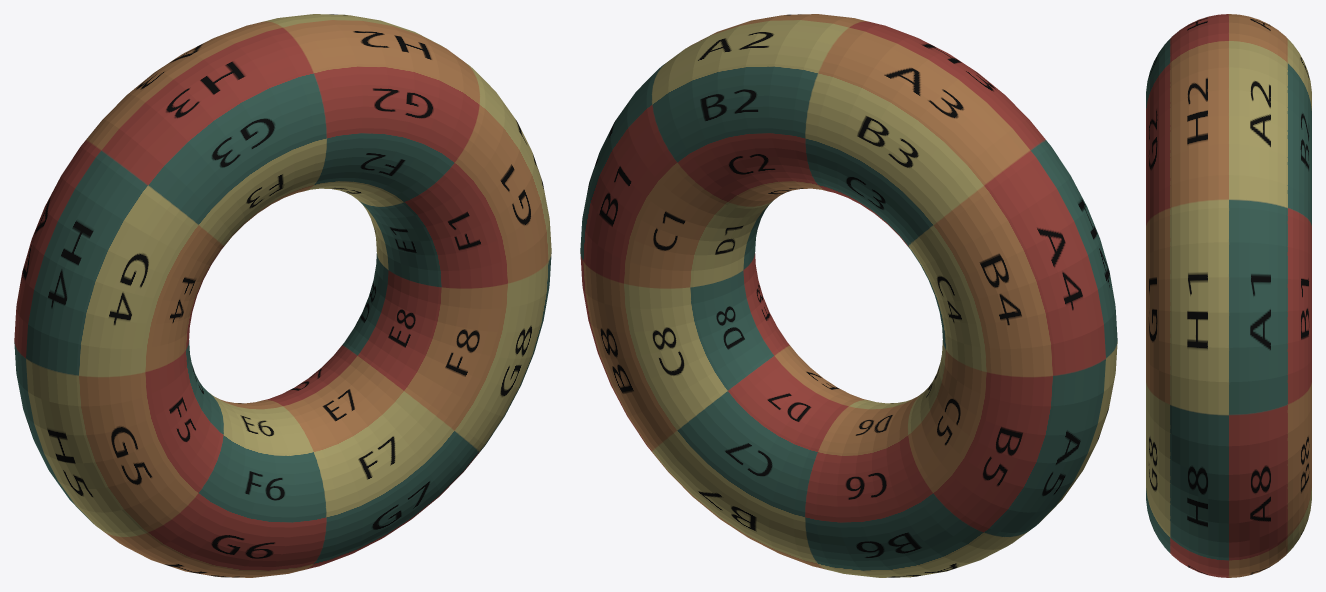
File: texture_torus_R19_r28.glb
3 views of the same model, side by side, from view 1: azimuth 30°, elevation 25°; view 2: azimuth 150°, elevation 25°; view 3: azimuth 270°, elevation 25° (orthographic). The views are drawn at different scales.
Visible parts, largest first — view 1: world; view 2: world; view 3: world.
Part boxes in pixels (x1,y1,x2,y2): world: (14,14,551,577); world: (580,14,1117,577); world: (1146,14,1311,577).
Size of the model in its own units: 32.13 by 32.07 by 9.45.
Materials: 1 (1 with a texture image).
